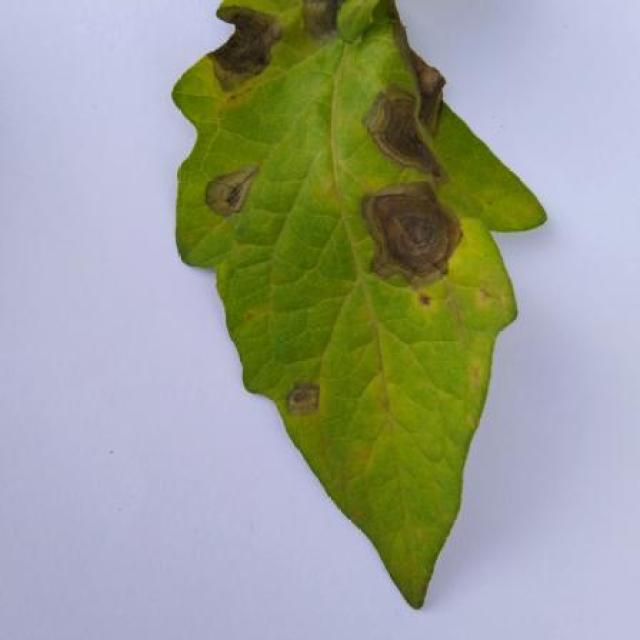Early Blight: (171, 0, 548, 607)
